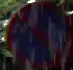No Stopping: (0, 1, 72, 69)
